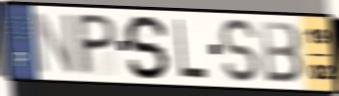B: (258, 20, 305, 86)
L: (174, 17, 209, 82)
N: (32, 10, 79, 77)
P: (77, 11, 119, 77)
S: (122, 13, 172, 81), (217, 17, 264, 86)
